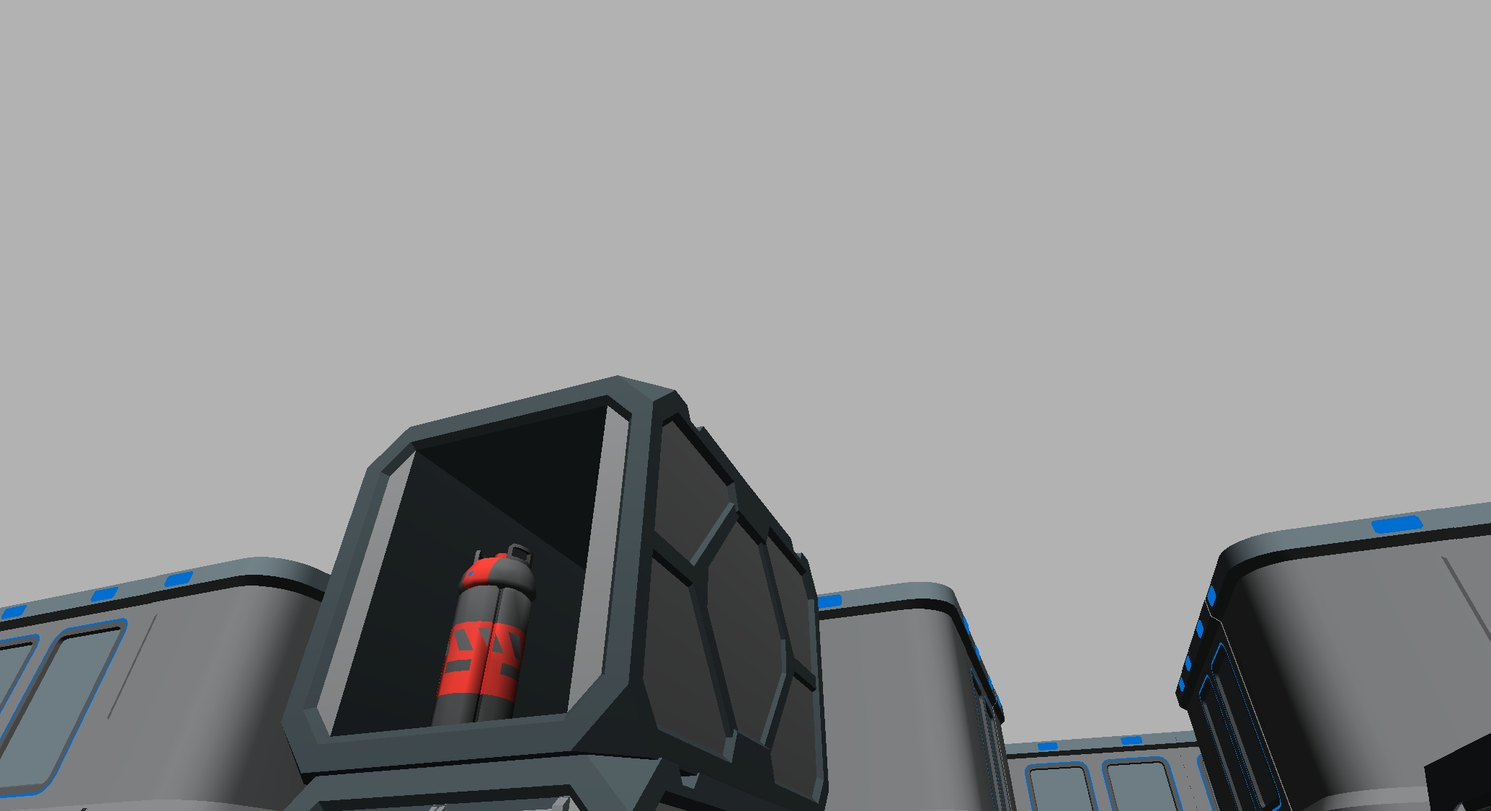red_barrel: (432, 544, 536, 725)
